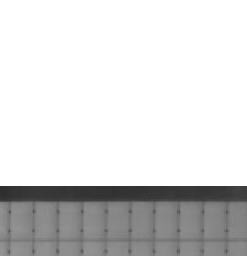solar: (6, 200, 36, 242), (31, 200, 61, 242), (55, 200, 85, 242), (79, 200, 109, 242), (104, 200, 134, 242), (127, 200, 157, 242), (151, 200, 181, 242), (176, 200, 206, 242), (199, 200, 229, 242)
